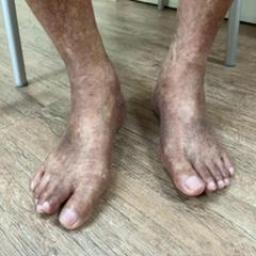Dorsal View -Both Feet-: (18, 35, 249, 240)
